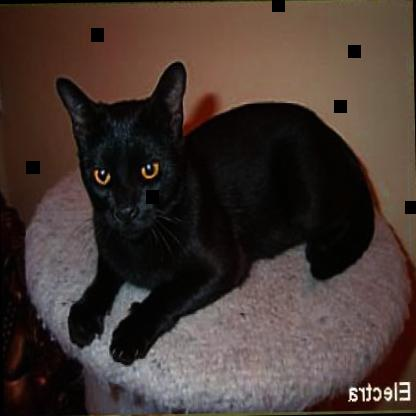cat: (55, 57, 378, 364)
